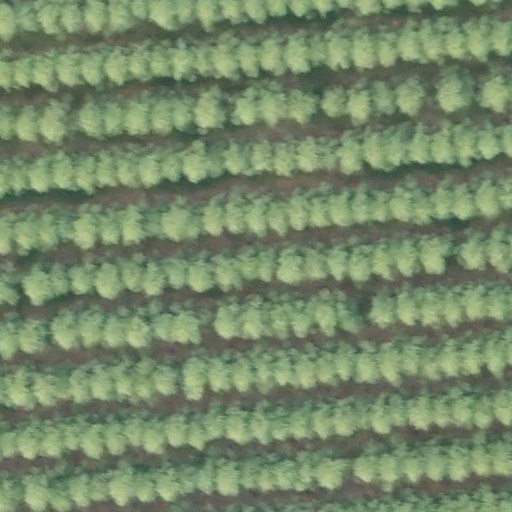eucalipto: (161, 195, 204, 248), (391, 176, 430, 226), (212, 245, 249, 293), (371, 390, 410, 435), (438, 65, 475, 112), (68, 204, 102, 253), (175, 302, 211, 346), (394, 73, 430, 116), (40, 98, 71, 147), (211, 453, 242, 500), (420, 283, 448, 335), (52, 308, 84, 353), (239, 291, 267, 342), (81, 42, 110, 89), (287, 85, 321, 125), (73, 151, 101, 198), (66, 256, 98, 297), (368, 288, 400, 329), (179, 356, 208, 401), (222, 405, 255, 444), (246, 194, 275, 237), (262, 33, 290, 76), (347, 81, 373, 127), (333, 339, 359, 385), (147, 96, 176, 137), (104, 413, 131, 457), (298, 135, 325, 178), (91, 361, 118, 404), (310, 397, 337, 440), (142, 254, 167, 300), (201, 195, 227, 238), (101, 96, 128, 137), (251, 137, 277, 174)
